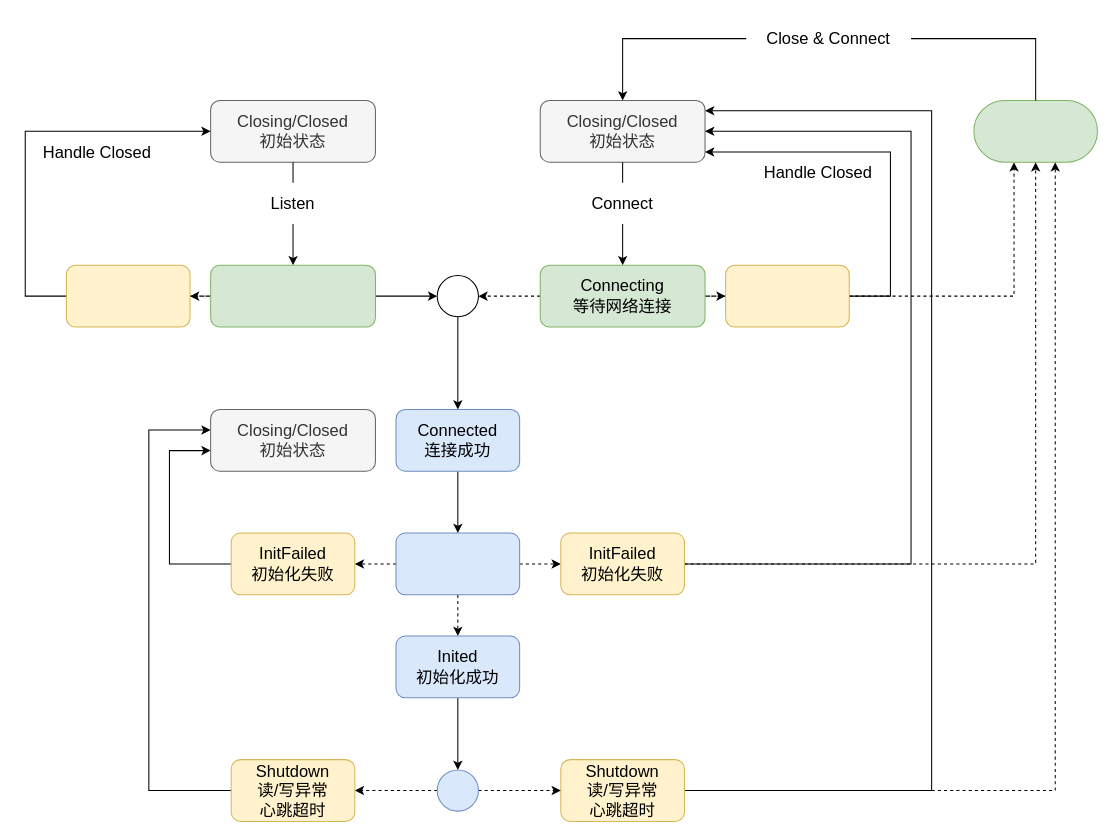
Image size: 1115x839. Some labels were removed from this diagram. Each missing label, with the box of its shape:
ConnFailed 连接失败: (725, 264, 849, 327)
InitRequest 初始化请求: (395, 532, 520, 595)
Listen/Listening 监听网络: (210, 264, 375, 327)
ListenFailed 监听失败: (65, 264, 190, 327)
retryConn 网络重连: (973, 99, 1097, 162)
